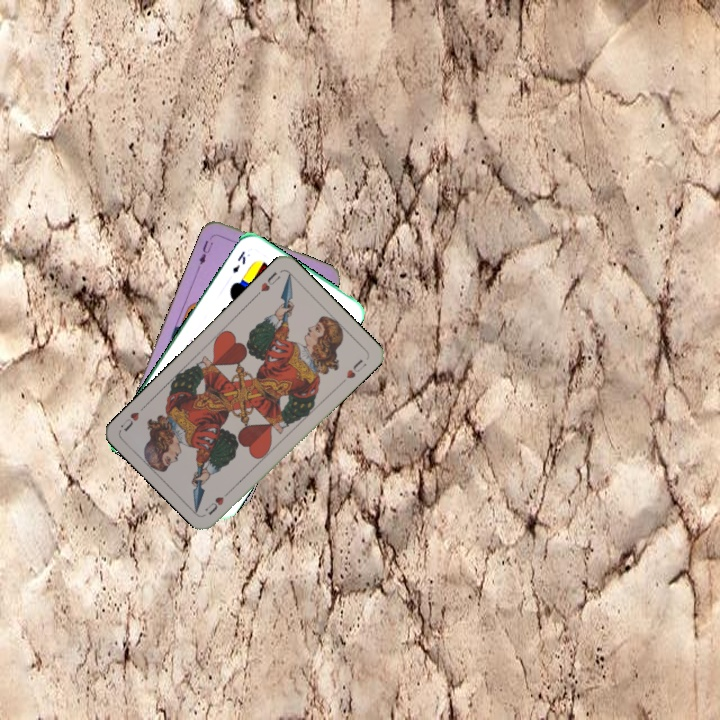EK: (228, 247, 248, 276)
EU: (194, 232, 216, 271)
HU: (201, 485, 234, 518), (251, 267, 283, 299)
